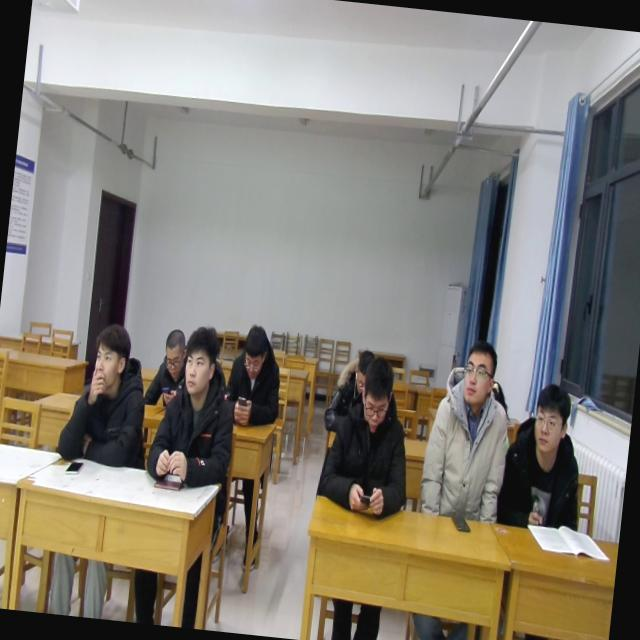bow: (220, 320, 287, 433), (320, 344, 378, 438)
down: (354, 354, 396, 435), (239, 319, 271, 379), (158, 324, 186, 380), (348, 345, 374, 389)
lookup: (527, 376, 575, 462), (86, 319, 138, 398), (176, 316, 223, 402), (457, 333, 499, 412)
sit: (418, 334, 518, 526), (314, 351, 420, 522), (143, 322, 244, 492), (55, 316, 156, 469), (493, 379, 592, 535), (141, 321, 196, 408)
